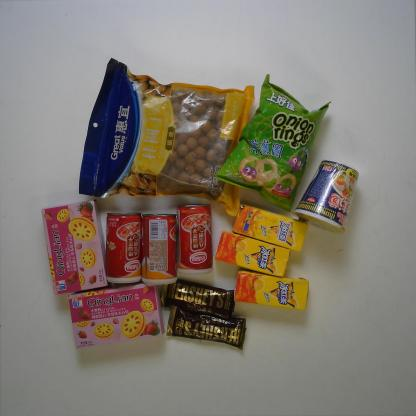Canned Food: (174, 198, 216, 275), (141, 211, 179, 288), (103, 212, 143, 284)
Chocolate: (165, 302, 246, 353), (156, 275, 236, 317)
Dessert: (67, 280, 168, 354), (40, 199, 109, 297)
Dried Food: (77, 55, 257, 220)
Drink: (231, 200, 309, 254), (214, 230, 292, 277), (232, 266, 310, 312)
Instant Noodles: (291, 159, 360, 235)
Puffed Food: (211, 73, 334, 213)
